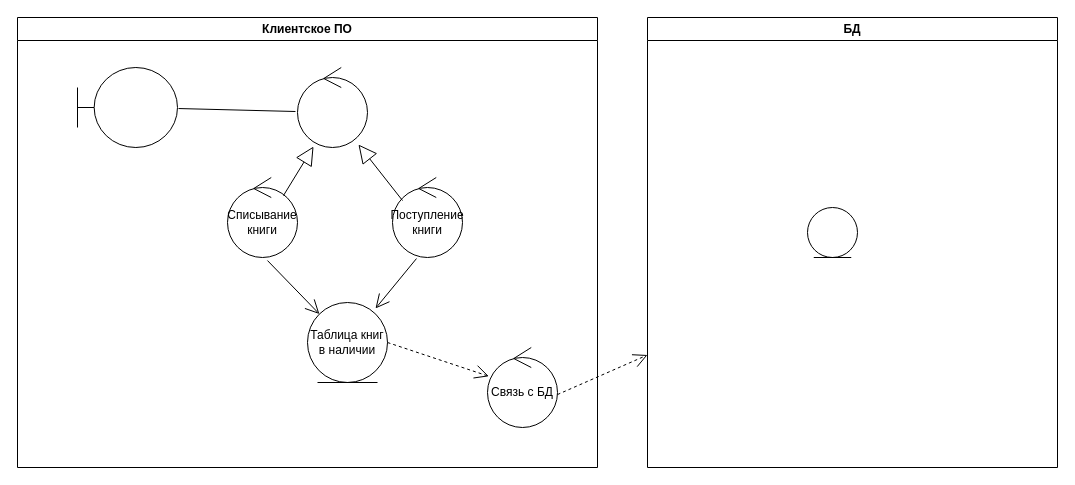
The diagram is 1075 pixels wide and 485 high, and some of its shapes have lost their labels. The centre of each missing label's shape, as x and y in pixels:
Книги в наличии: the point at 832,232
Обращение к системе: the point at 127,107
Система учета: the point at 332,107
